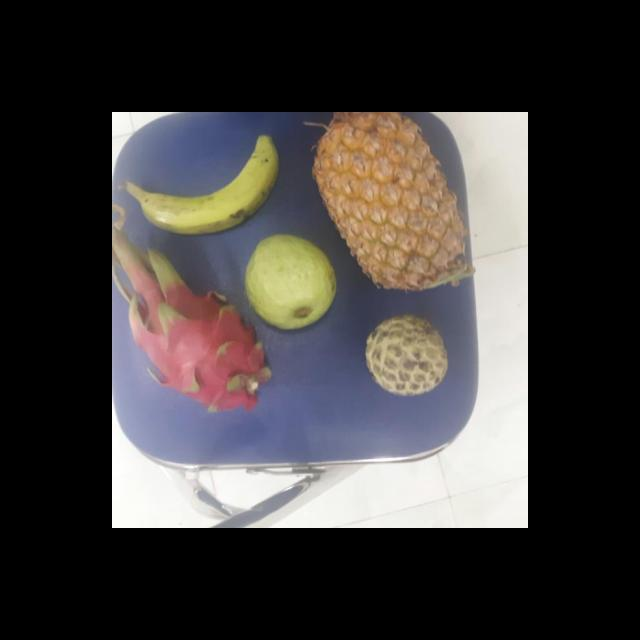Sakya fruit: (362, 316, 450, 396)
banana: (140, 132, 282, 236)
guava: (240, 236, 338, 331)
pineapple: (308, 112, 468, 289)
pitaya: (130, 290, 268, 414)
